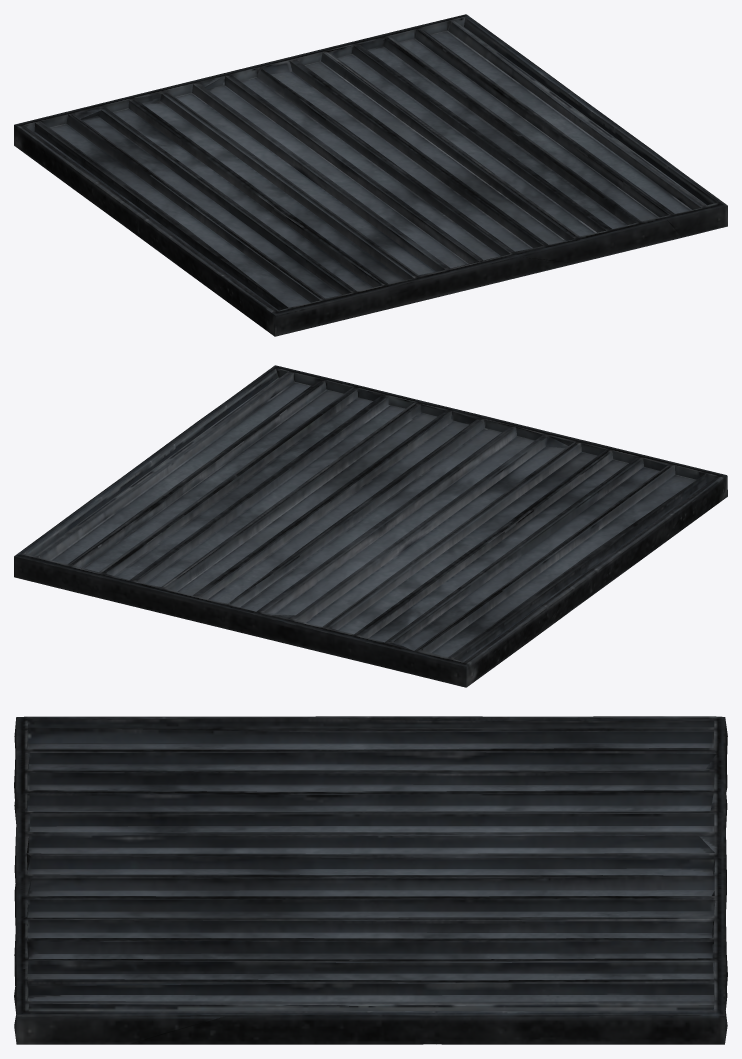
File: roof.glb
The picture shows the model from 3 angles, top to bottom: view 1: azimuth 30°, elevation 25°; view 2: azimuth 150°, elevation 25°; view 3: azimuth 270°, elevation 25°; orthographic projection. The views are drawn at different scales.
Visible parts, largest first — view 1: roof-detail; view 2: roof-detail; view 3: roof-detail.
Boxes of the visible parts, bbox=[...] form: roof-detail: bbox=[14, 14, 727, 336]; roof-detail: bbox=[14, 365, 727, 687]; roof-detail: bbox=[14, 716, 727, 1044].
Size of the model in its own units: 4 by 0.22 by 4.
Materials: 1 (1 with a texture image).
